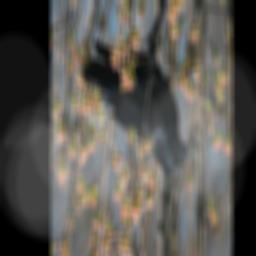Crow: (84, 0, 194, 182)
